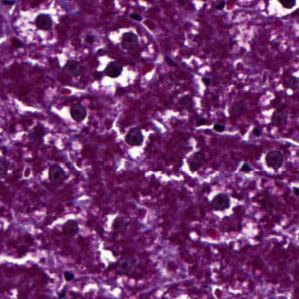inflammation: (89, 52, 143, 92), (17, 5, 59, 44), (120, 125, 154, 155), (207, 191, 241, 220), (261, 0, 299, 23)
